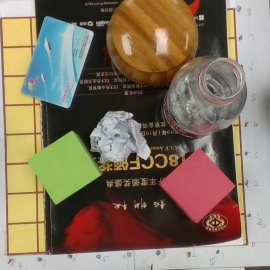bottle: (160, 55, 246, 141)
card: (22, 15, 94, 108)
chess: (107, 1, 199, 84)
